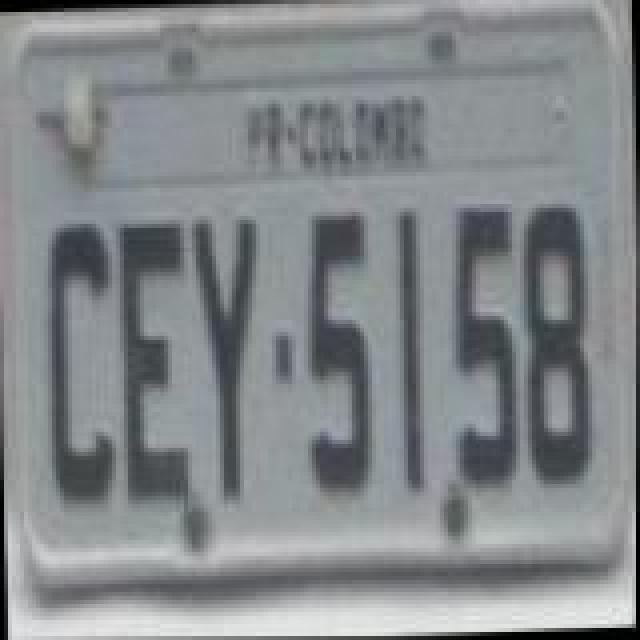1: (396, 204, 428, 488)
5: (296, 208, 376, 508), (444, 202, 524, 502)
8: (520, 202, 600, 494)
C: (42, 216, 118, 504)
E: (118, 214, 194, 502)
Y: (188, 216, 268, 508)
